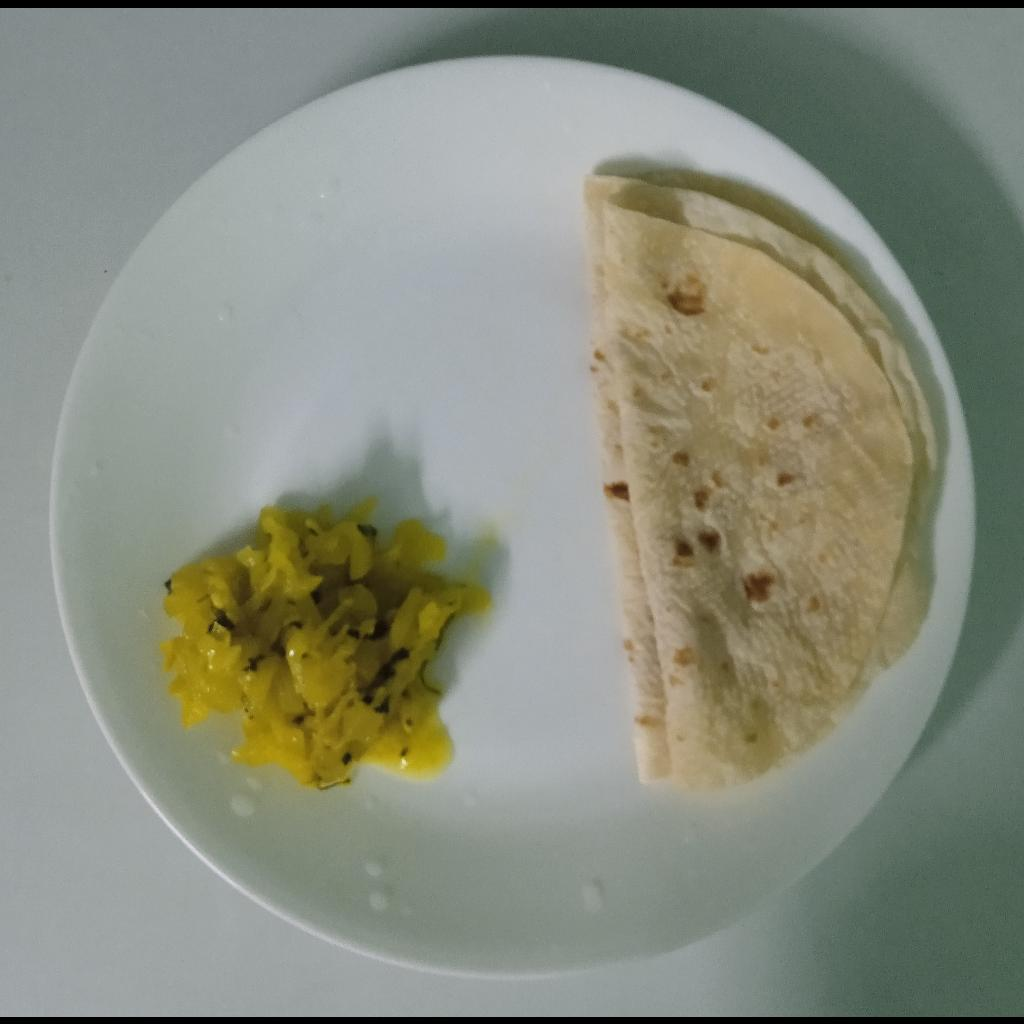cabbage: (157, 496, 486, 784)
ruti: (582, 171, 938, 792)
